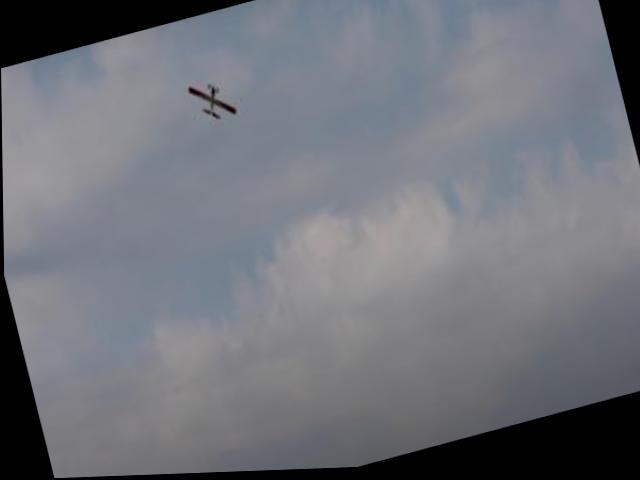uav: (180, 67, 245, 135)
